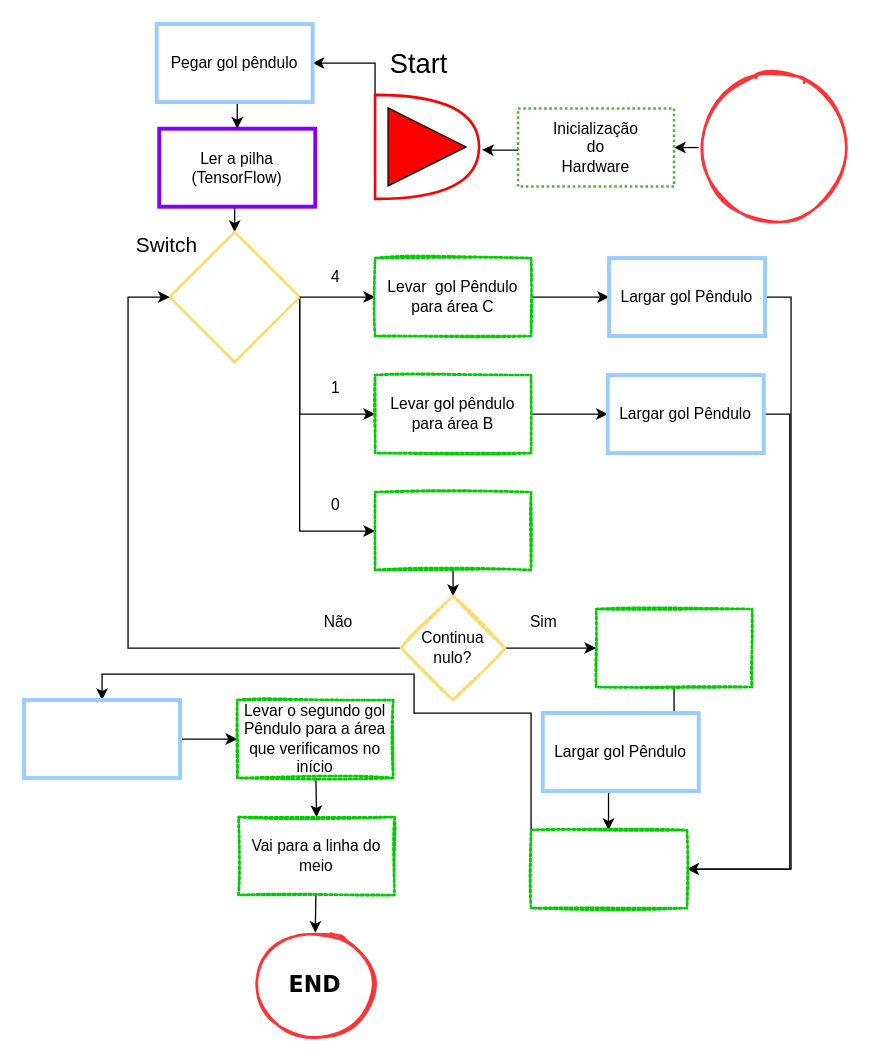
Image size: 874x1061. Some labels were removed from this diagram. The box of each missing label's shape, as (x1, y1, x2, y2) in pixels:
Andar para a alinhar com o segundo gol Pêndulo: (529, 828, 688, 909)
Ande próximo a pilha e leia novamente: (373, 490, 532, 571)
INIT: (697, 74, 850, 220)
Levar gol pêndulo para a área A: (594, 607, 753, 688)
Pegar o segundo gol pêndulo: (21, 697, 181, 779)
Valor da pilha: (168, 230, 300, 363)
